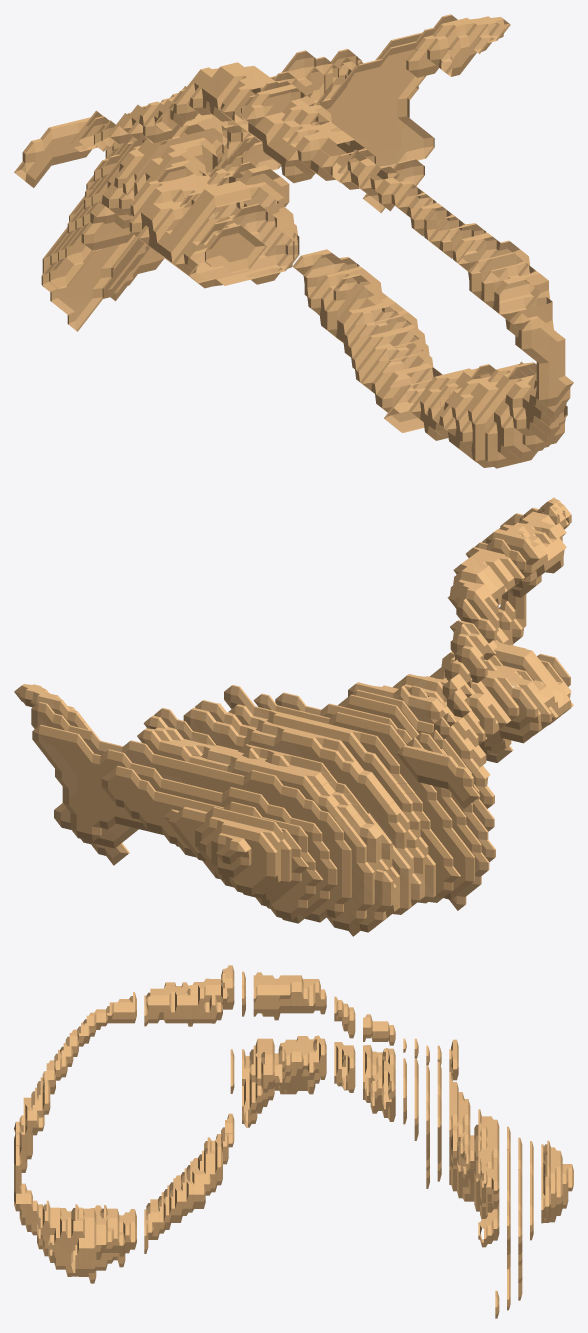
Rendered from SVV_URYDL.gltf.
3 renders of one model, top to bottom at view 1: azimuth 30°, elevation 25°; view 2: azimuth 150°, elevation 25°; view 3: azimuth 270°, elevation 25°, orthographic. The views are drawn at different scales.
Parts seen in each view (by area): view 1: URYDL; view 2: URYDL; view 3: URYDL.
Boxes of the visible parts, x1,y1,x2,y2 form: URYDL: (14,14,573,468); URYDL: (14,497,573,936); URYDL: (14,965,573,1318).
Bounding box in the file's own units: 30216 × 18945 × 37396.
